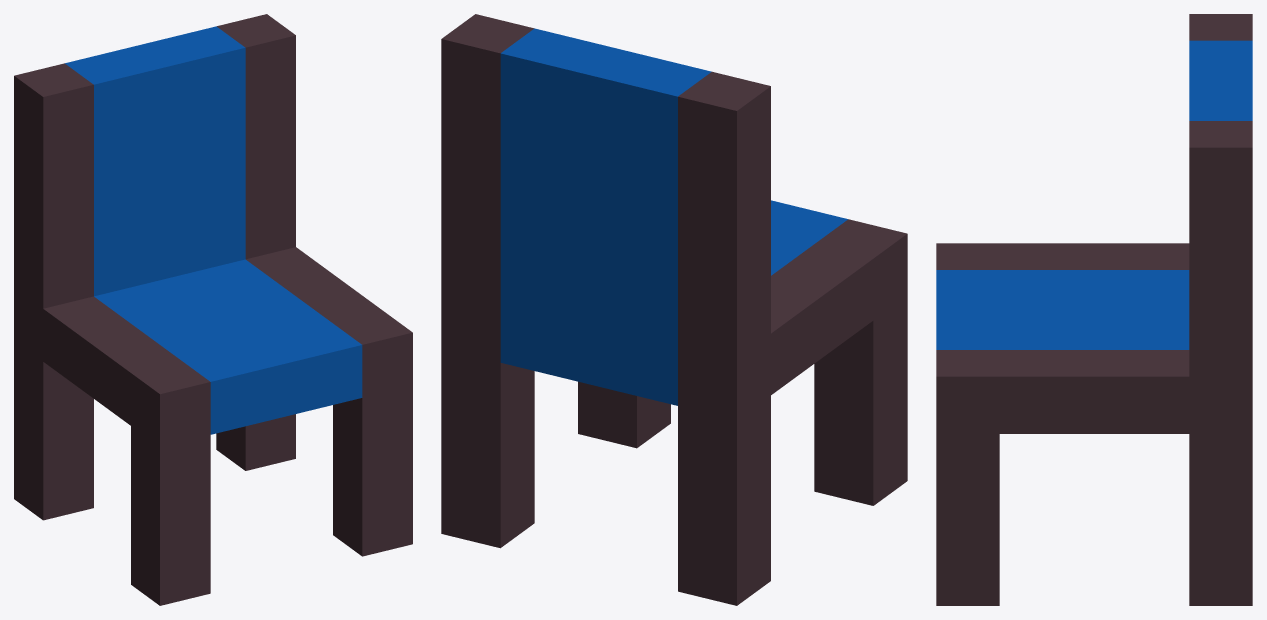
Rendered from chair_c_blue.obj.
The picture shows the model from 3 angles, left to right: view 1: azimuth 30°, elevation 25°; view 2: azimuth 150°, elevation 25°; view 3: azimuth 270°, elevation 25°; orthographic projection. The views are drawn at different scales.
Size of the model in its own units: 0.5 by 0.8 by 0.5.
1 material, 1 textured.
